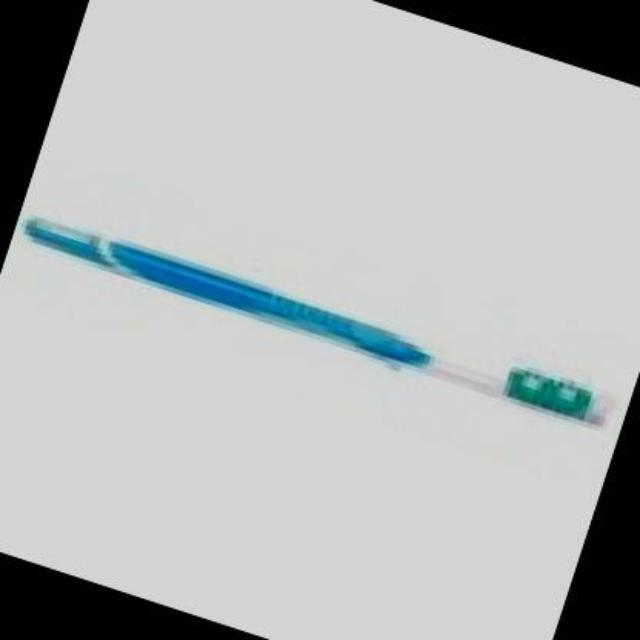toothbrush: (1, 176, 636, 480)
